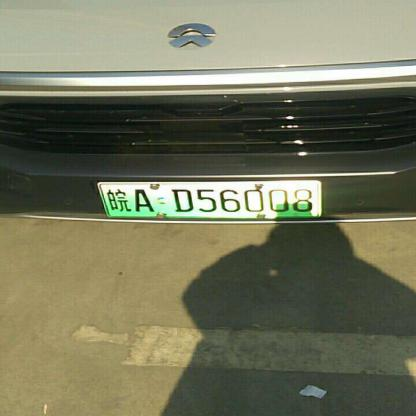lp: (97, 181, 320, 216)
